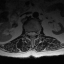CCS_normal: (31, 29, 33, 39)
LFS_normal: (35, 30, 38, 36)
LLS_normal: (33, 30, 35, 38)
RFS_normal: (26, 30, 28, 37)
RLS_normal: (29, 30, 31, 38)
